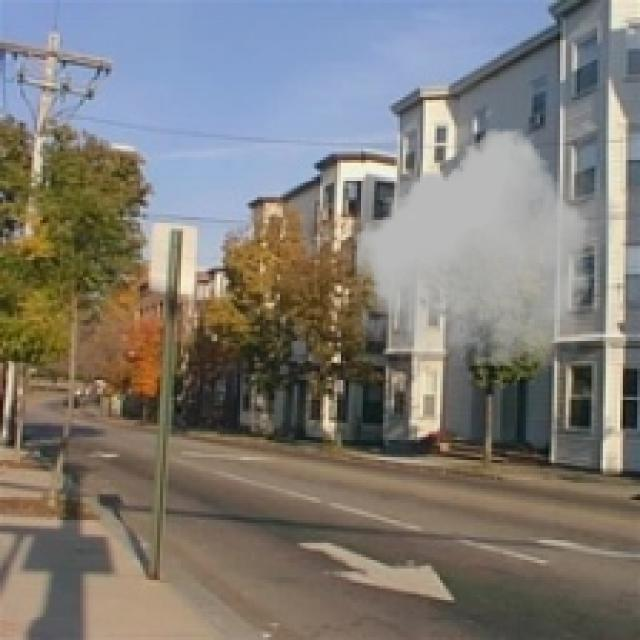Smoke: (348, 128, 623, 366)
